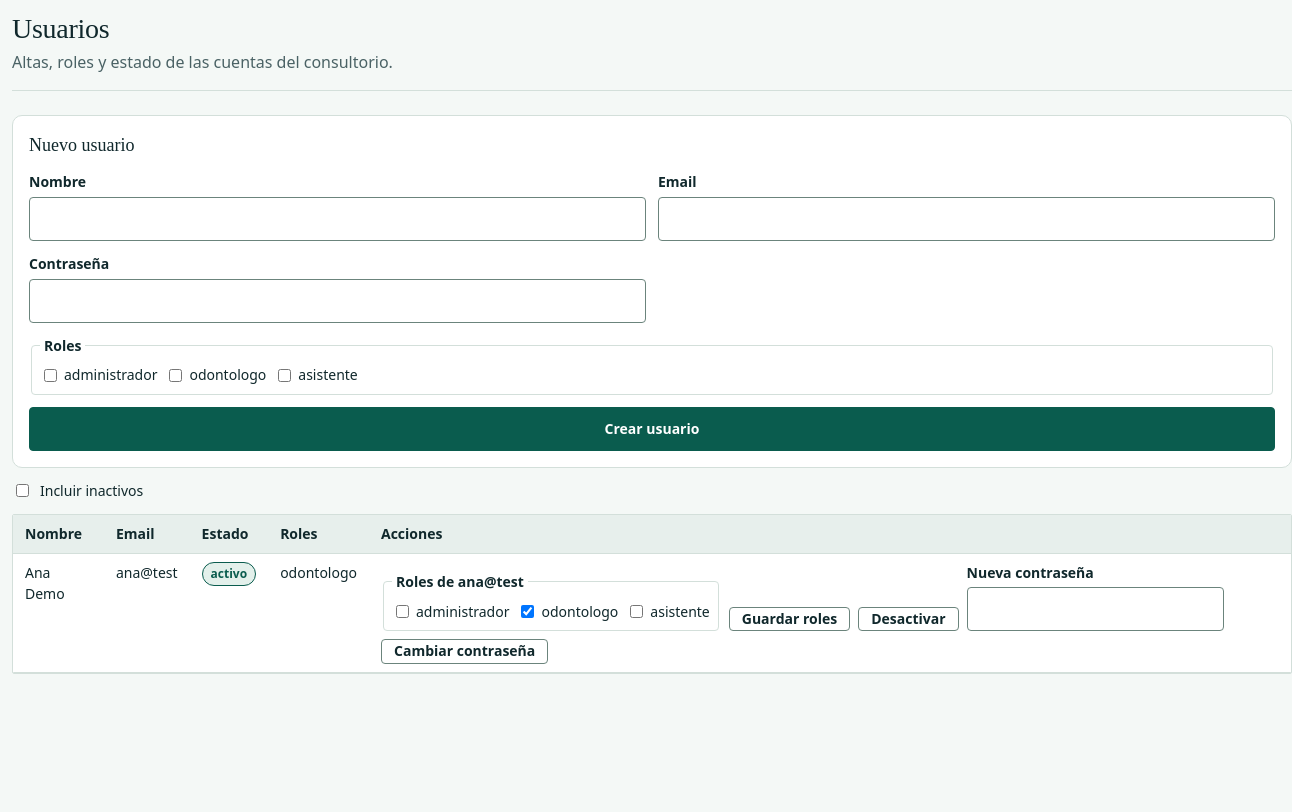
UsuariosPage › crea un usuario con los roles elegidos
Check: the text "Ana Demo" is shown, box x1=13 y1=553 x2=104 y2=672
Type "Nuevo Demo" into the field labelled "Nombre" at coordinates (338, 219), box x1=29 y1=197 x2=646 y2=241
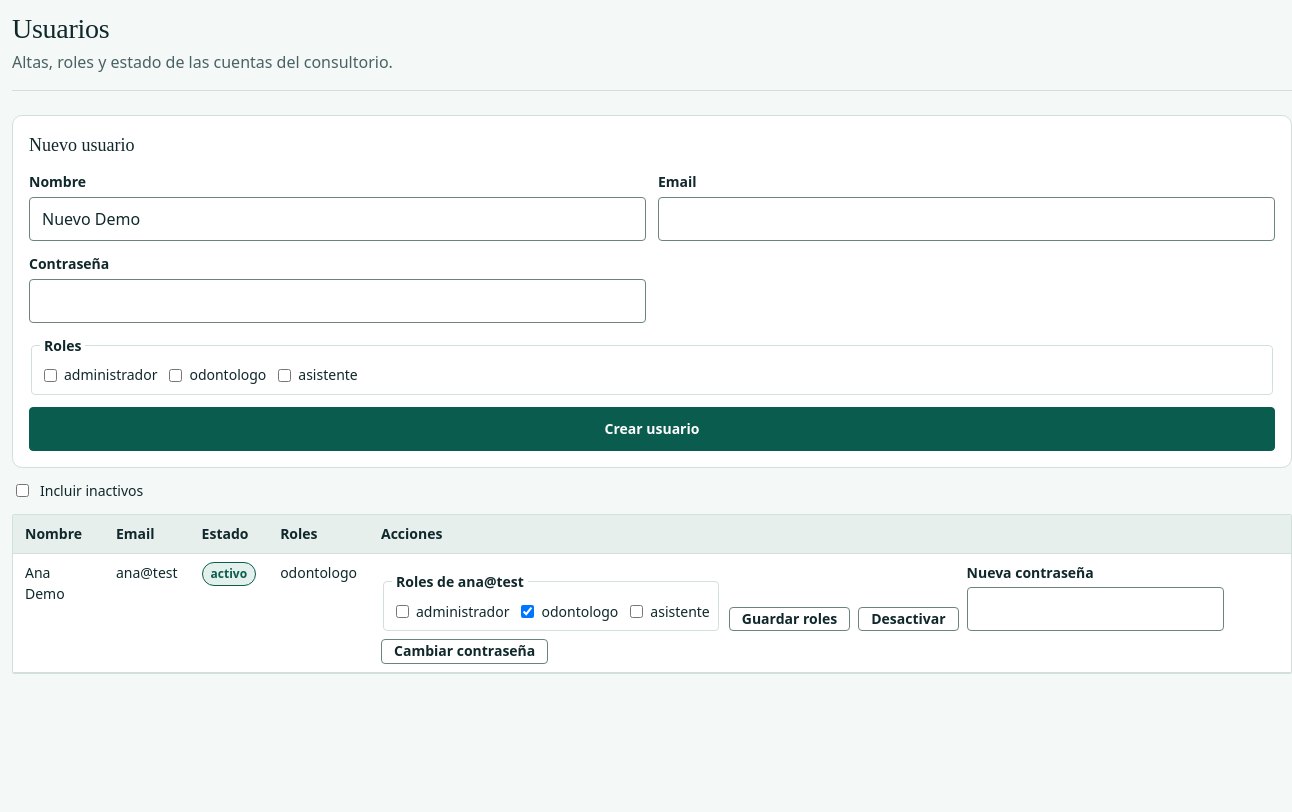
Type "nuevo@test" into the field labelled "Email" at coordinates (966, 219), box x1=658 y1=197 x2=1275 y2=241
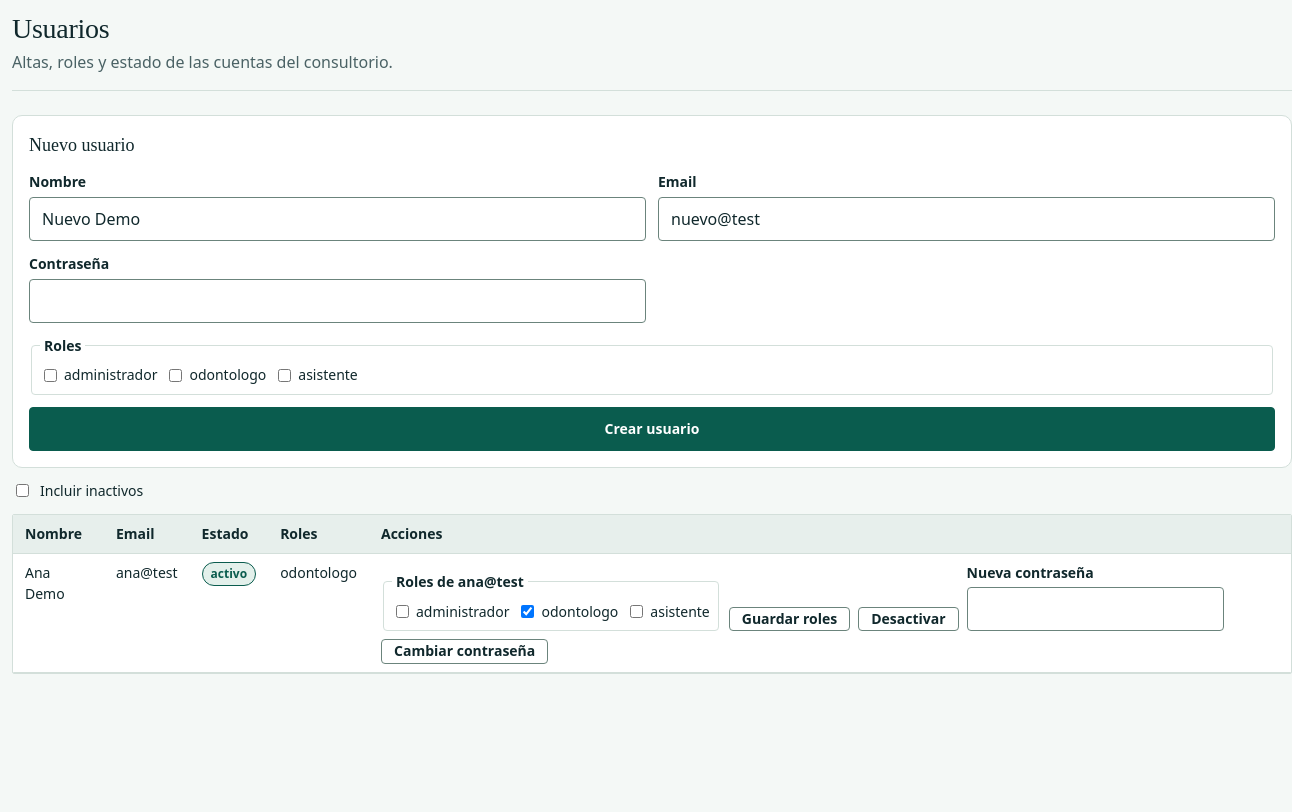
Type "clave-larga-123" into the password field labelled "Contraseña" at coordinates (338, 301), box x1=29 y1=279 x2=646 y2=323
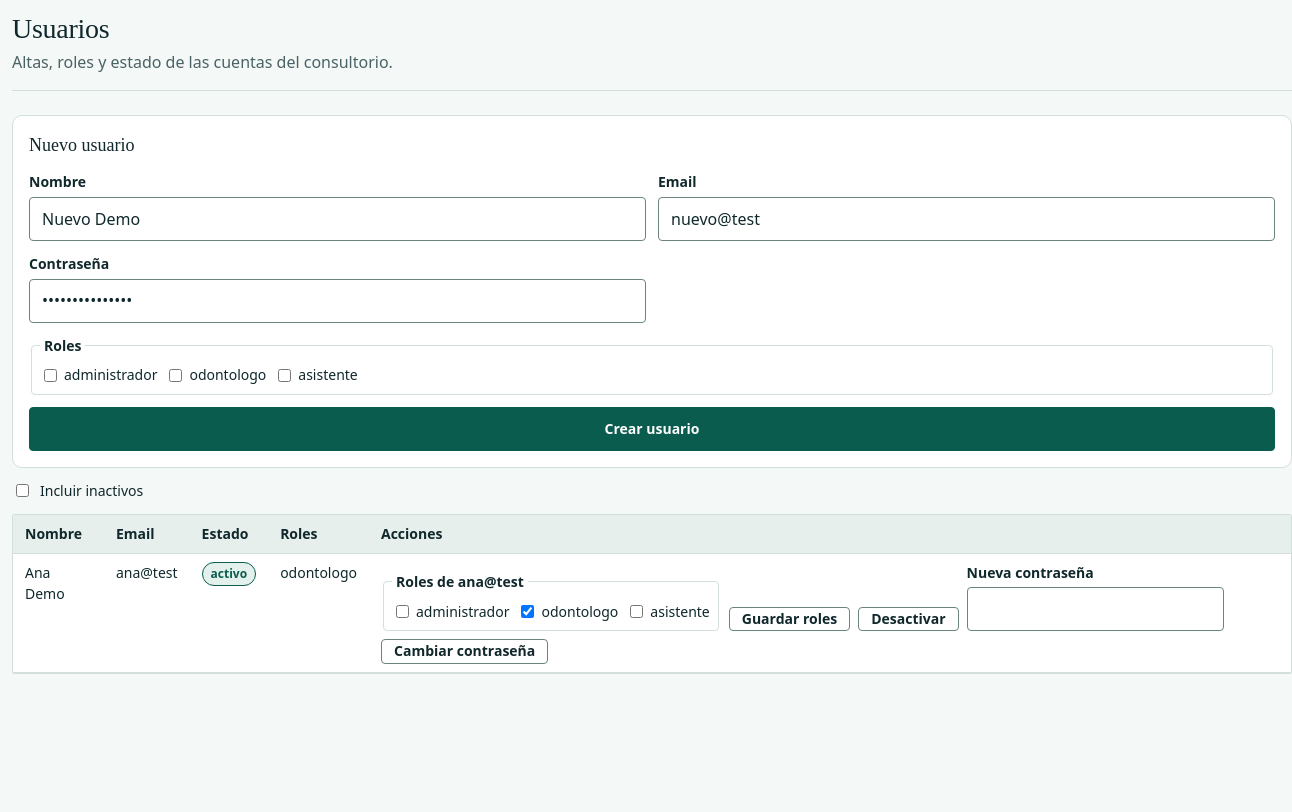
Click the checkbox named "Rol odontologo" at coordinates (176, 375), box x1=169 y1=369 x2=182 y2=382
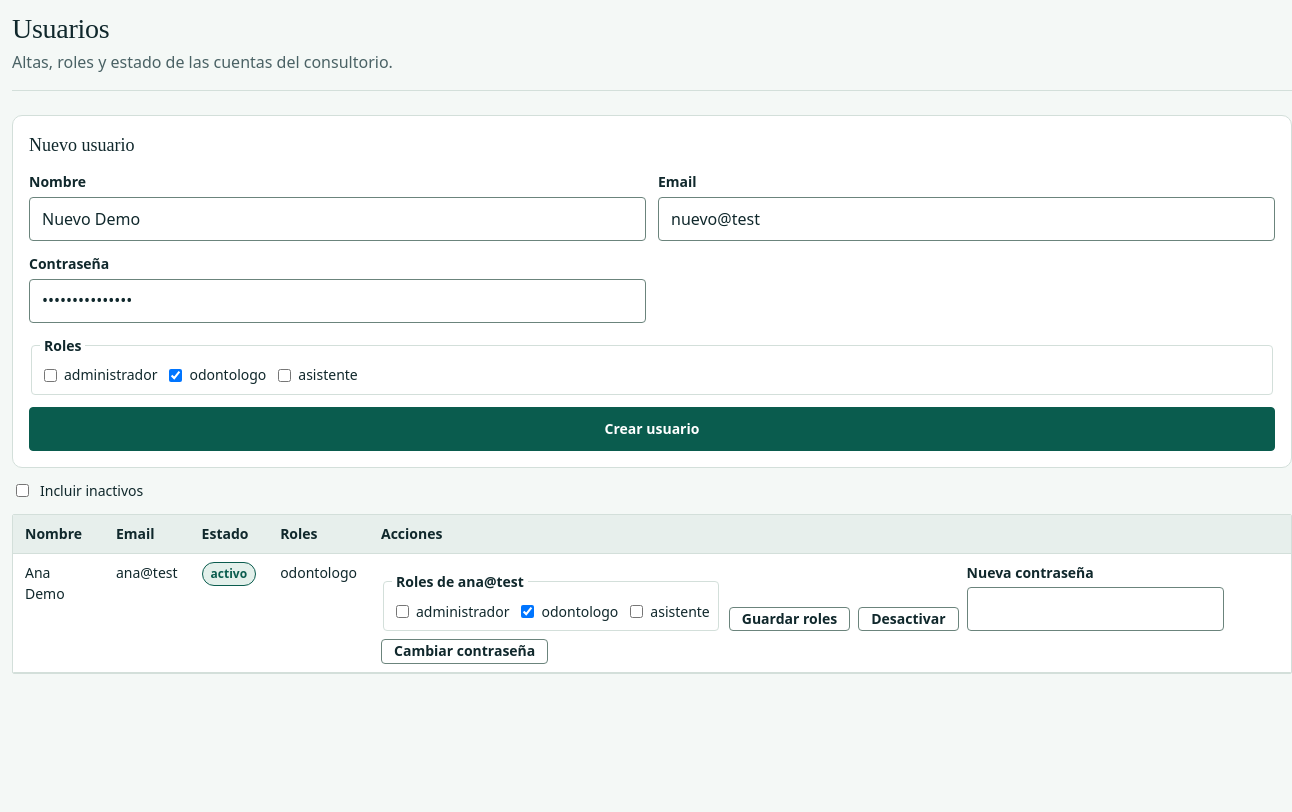
Click the button "Crear usuario" at coordinates (652, 429), box x1=29 y1=407 x2=1275 y2=451
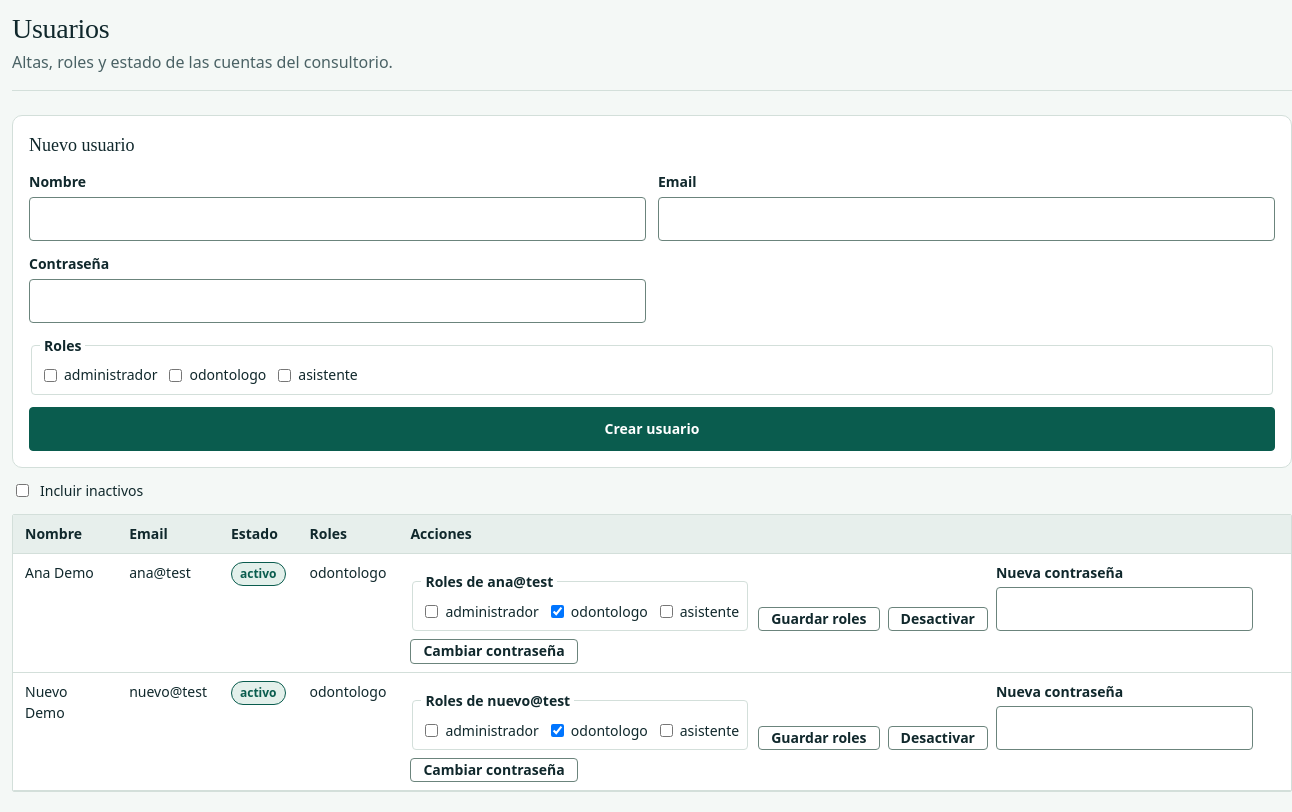
Check: the text "nuevo@test" is shown, box x1=117 y1=672 x2=219 y2=791
